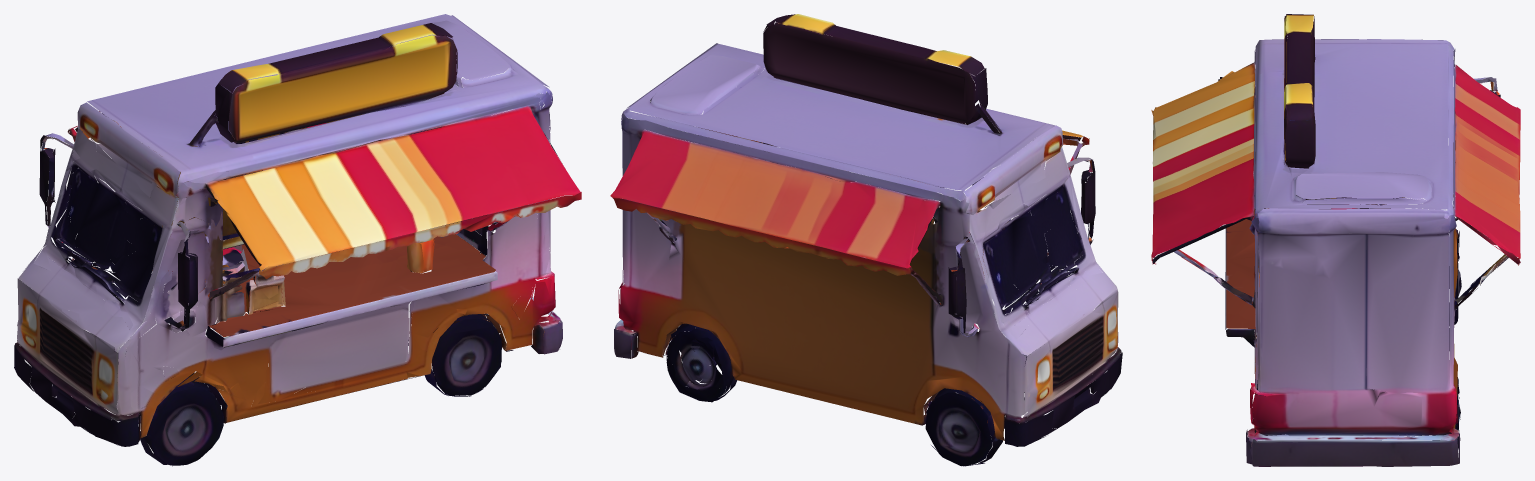
File: h3-food-truck.glb
3 views of the same model, side by side, from view 1: azimuth 30°, elevation 25°; view 2: azimuth 150°, elevation 25°; view 3: azimuth 270°, elevation 25° (orthographic). The views are drawn at different scales.
Parts seen in each view (by area): view 1: tmpp6tmkk4m.ply; view 2: tmpp6tmkk4m.ply; view 3: tmpp6tmkk4m.ply.
Part boxes in pixels (x1,y1,x2,y2): tmpp6tmkk4m.ply: [14, 14, 581, 466]; tmpp6tmkk4m.ply: [610, 14, 1122, 466]; tmpp6tmkk4m.ply: [1151, 14, 1520, 466].
Bounding box in the file's own units: 2 × 1.51 × 1.47.
Materials: 1 (1 with a texture image).
